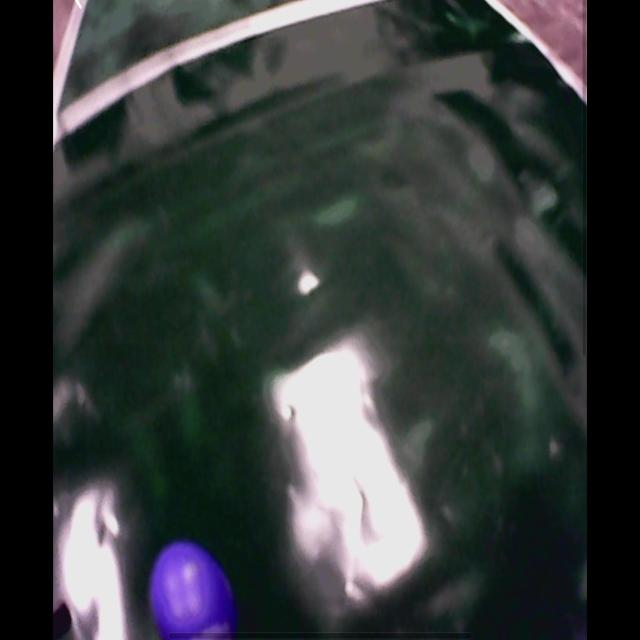ball: (147, 545, 233, 640)
